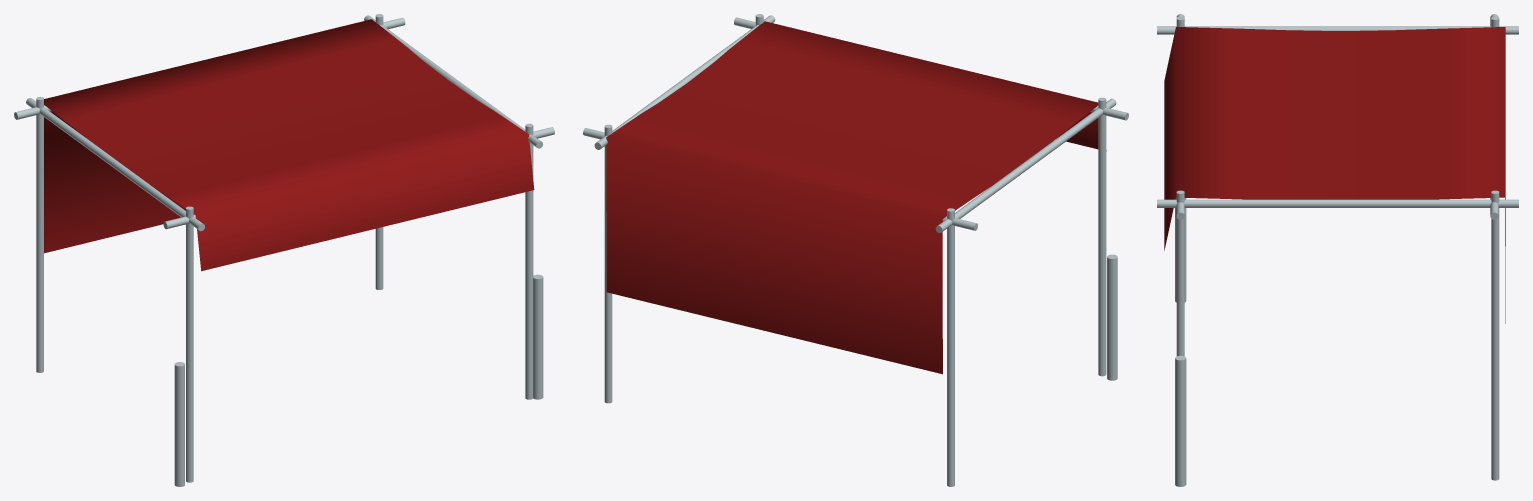
File: TENT.glb
3 views of the same model, side by side, from view 1: azimuth 30°, elevation 25°; view 2: azimuth 150°, elevation 25°; view 3: azimuth 270°, elevation 25° (orthographic). The views are drawn at different scales.
Parts seen in each view (by area): view 1: ClothFlat, PolesFlat; view 2: ClothFlat, PolesFlat; view 3: ClothFlat, PolesFlat.
Boxes of the visible parts, box(x1,y1,x2,y2) form: ClothFlat: box(44, 19, 534, 271); PolesFlat: box(14, 14, 554, 486); ClothFlat: box(606, 21, 1106, 374); PolesFlat: box(583, 14, 1128, 486); ClothFlat: box(1164, 27, 1505, 323); PolesFlat: box(1157, 14, 1518, 486).
Bounding box in the file's own units: 2.38 × 1.61 × 1.83.
2 materials, 2 textured.
